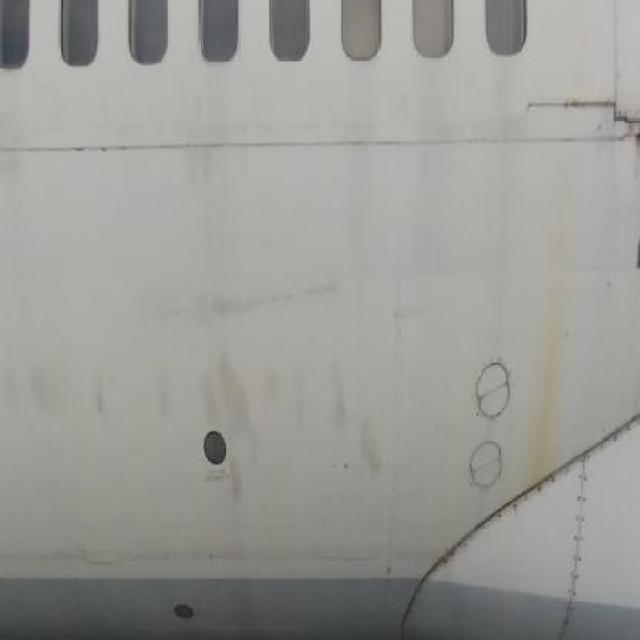Missing-Rivet: (450, 8, 508, 252), (202, 7, 261, 210), (500, 94, 640, 168), (322, 11, 358, 266), (356, 81, 458, 134), (248, 71, 334, 123)
